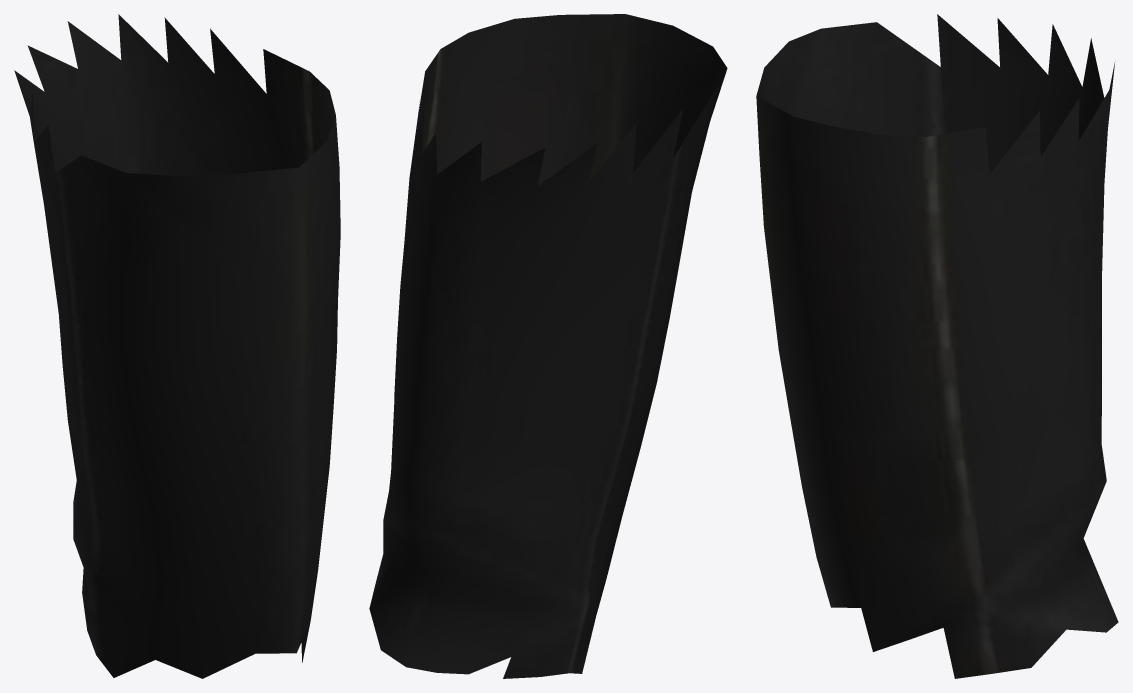
Rendered from muslo_izq.obj.
3 views of the same model, side by side, from view 1: azimuth 30°, elevation 25°; view 2: azimuth 150°, elevation 25°; view 3: azimuth 270°, elevation 25° (orthographic). The views are drawn at different scales.
Visible parts, largest first — view 1: node_id797.004; view 2: node_id797.004; view 3: node_id797.004.
Boxes of the visible parts, <box> form: node_id797.004: <box>14,14,340,678</box>; node_id797.004: <box>369,14,727,678</box>; node_id797.004: <box>756,14,1118,678</box>.
Size of the model in its own units: 0.1679 by 0.3502 by 0.2044.
Materials: 1 (1 with a texture image).
